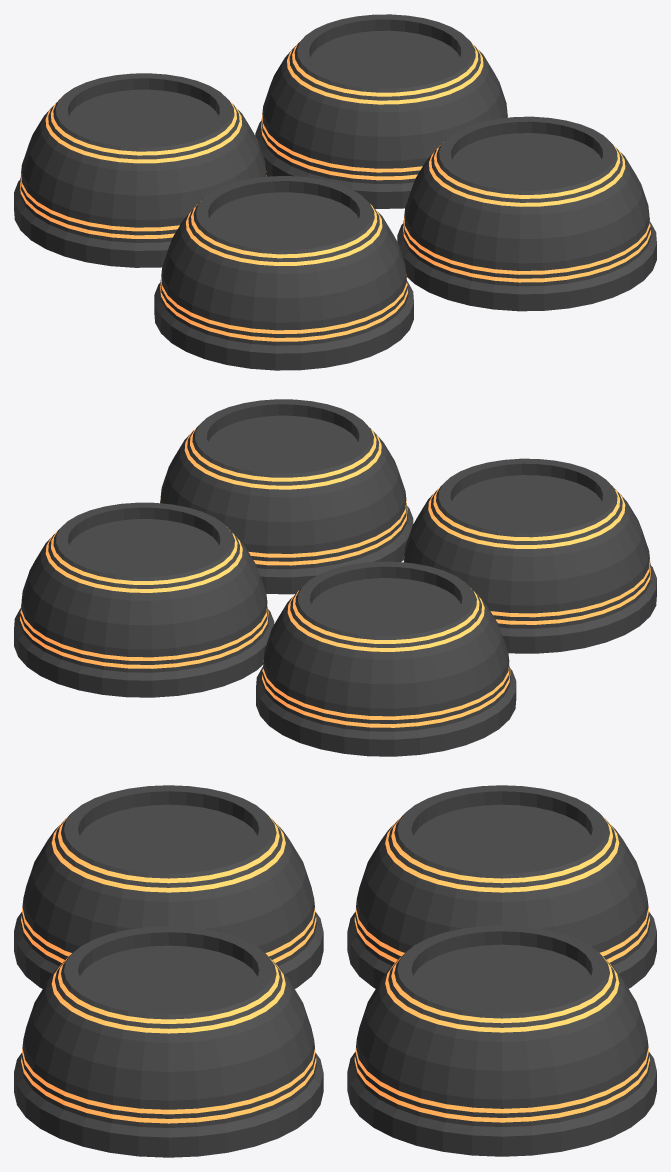
File: ExhaustCluster.fbx
The picture shows the model from 3 angles, top to bottom: view 1: azimuth 30°, elevation 25°; view 2: azimuth 150°, elevation 25°; view 3: azimuth 270°, elevation 25°; orthographic projection. The views are drawn at different scales.
Visible parts, largest first — view 1: Sphere.001; view 2: Sphere.001; view 3: Sphere.001.
Boxes of the visible parts, left/top/right/bottom form: Sphere.001: left=14, top=14, right=656, bottom=370; Sphere.001: left=14, top=399, right=656, bottom=756; Sphere.001: left=14, top=785, right=656, bottom=1157.
Bounding box in the file's own units: 434 × 90.71 × 434.
